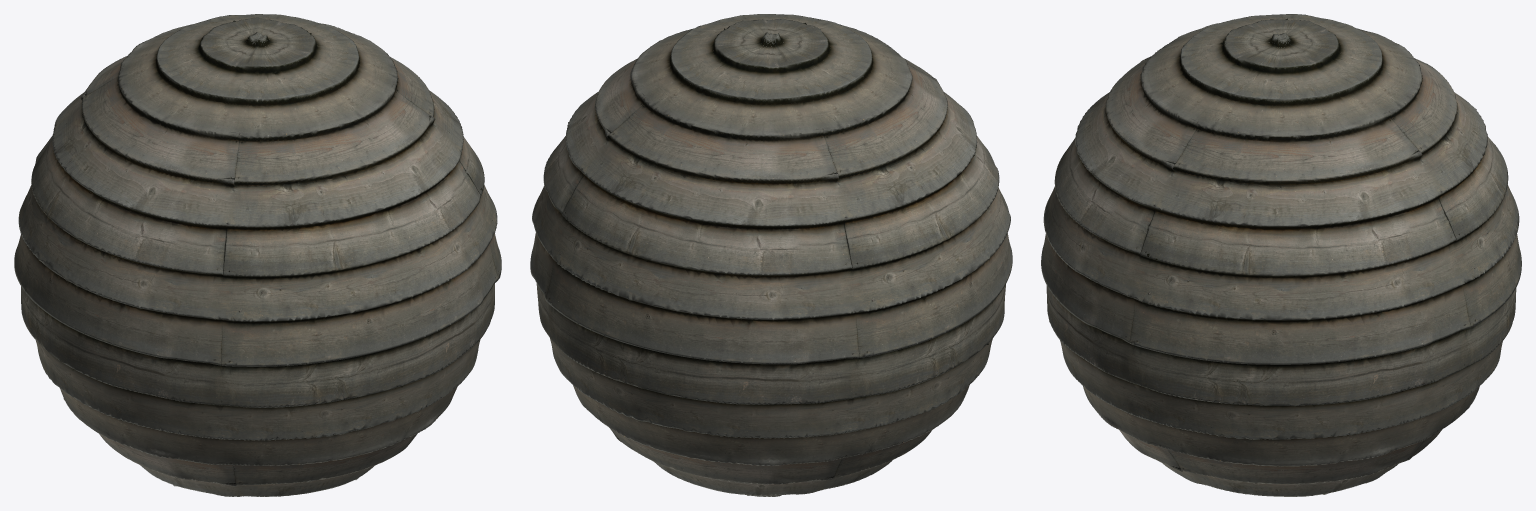
Rendered from dark_planks_2k.gltf.
3 views of the same model, side by side, from view 1: azimuth 30°, elevation 25°; view 2: azimuth 150°, elevation 25°; view 3: azimuth 270°, elevation 25° (orthographic).
Parts seen in each view (by area): view 1: sphere_gltf; view 2: sphere_gltf; view 3: sphere_gltf.
Boxes of the visible parts, left/top/right/bottom form: sphere_gltf: left=14, top=14, right=501, bottom=496; sphere_gltf: left=530, top=14, right=1012, bottom=496; sphere_gltf: left=1041, top=14, right=1521, bottom=496.
Size of the model in its own units: 2 by 2.01 by 2.
Materials: 1 (1 with a texture image).
